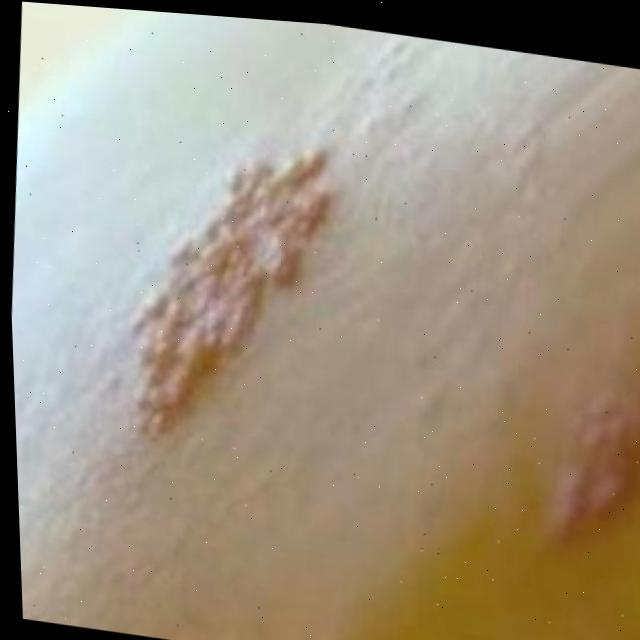Shingles: (99, 116, 347, 473), (535, 335, 640, 553)
